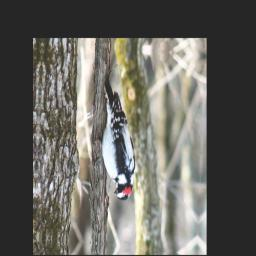Woodpecker: (94, 71, 142, 202)
